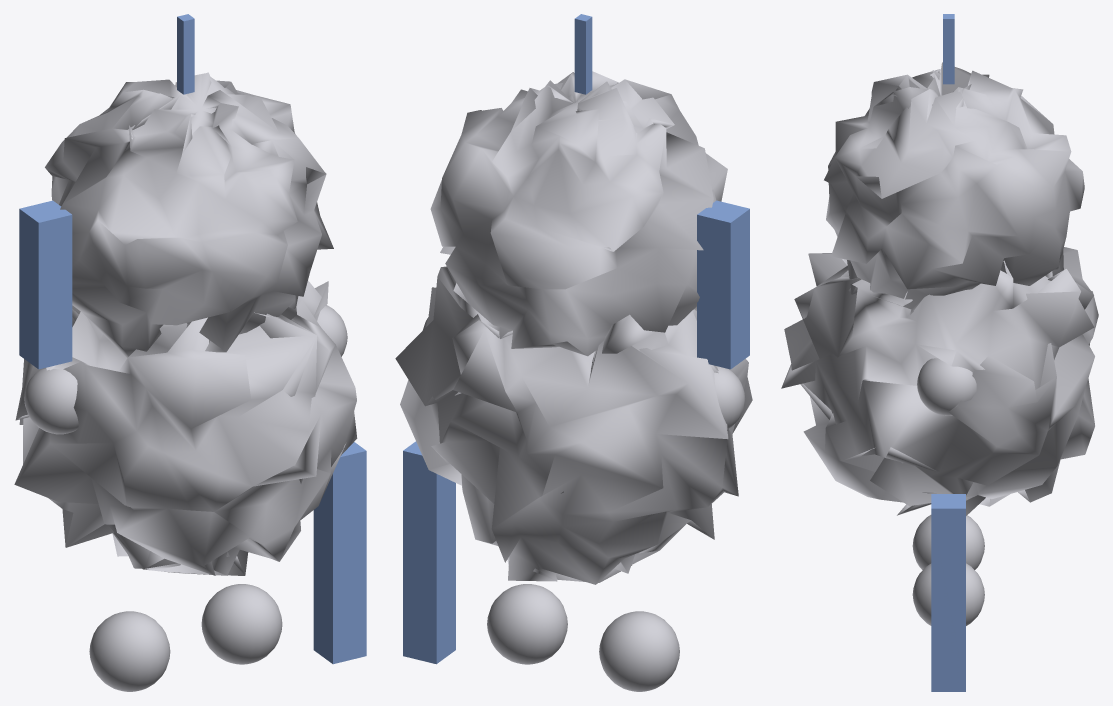
The model's file is clay_breakdance_robot_kid.glb.
3 renders of one model, left to right at view 1: azimuth 30°, elevation 25°; view 2: azimuth 150°, elevation 25°; view 3: azimuth 270°, elevation 25°, orthographic. The views are drawn at different scales.
Visible parts, largest first — view 1: antenna; view 2: antenna; view 3: antenna.
Part boxes in pixels (x1,y1,x2,y2): antenna: (14,14,366,691); antenna: (395,14,752,691); antenna: (781,14,1098,691).
Size of the model in its own units: 1.19 by 2.3 by 1.1.
